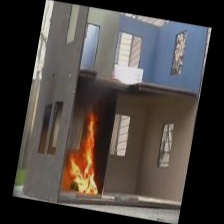fire: (61, 113, 109, 195)
